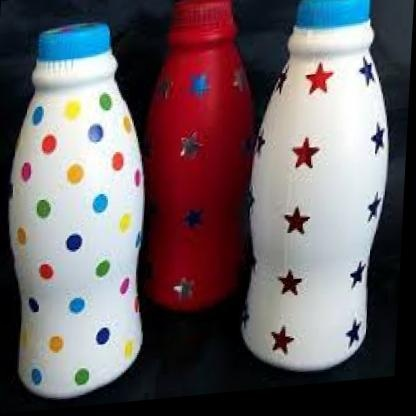trash: (242, 0, 387, 370), (9, 23, 143, 397), (146, 0, 251, 311)
